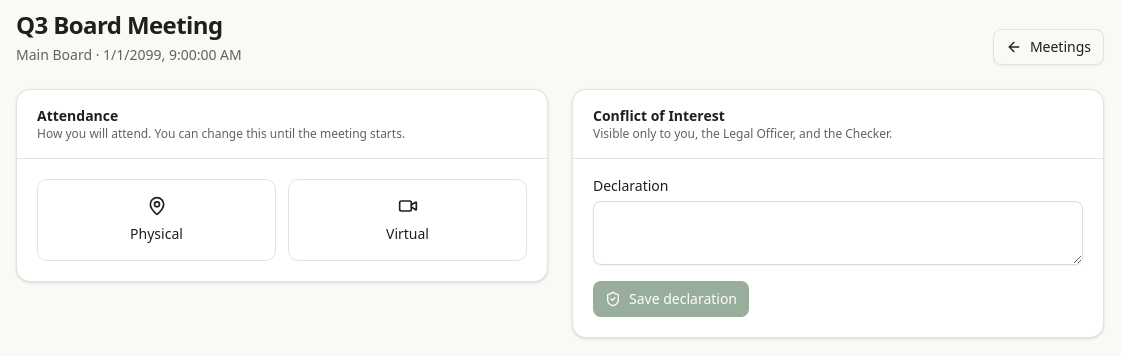
Test case: MemberMeetingDetail › selecting Virtual records attendance
The width and height of the screenshot is (1121, 356).
Click the button "Virtual": (408, 220) [288, 179, 527, 261]
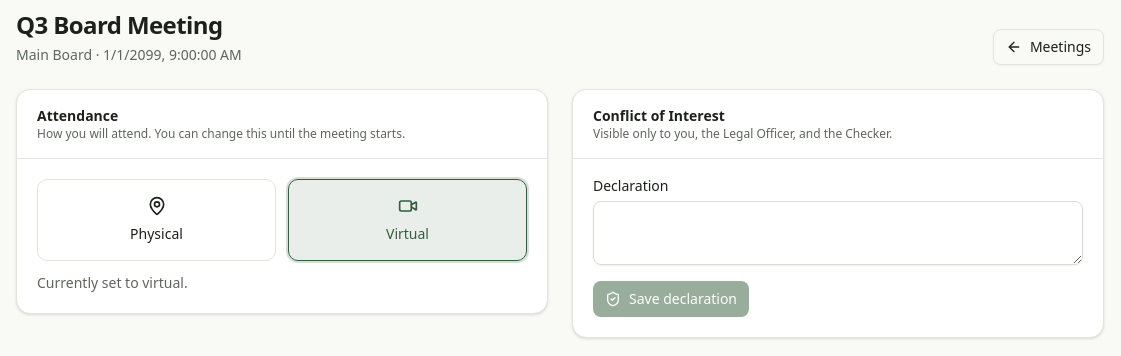
Expected: the text "Currently set to virtual." is shown, [37, 273, 188, 292]
